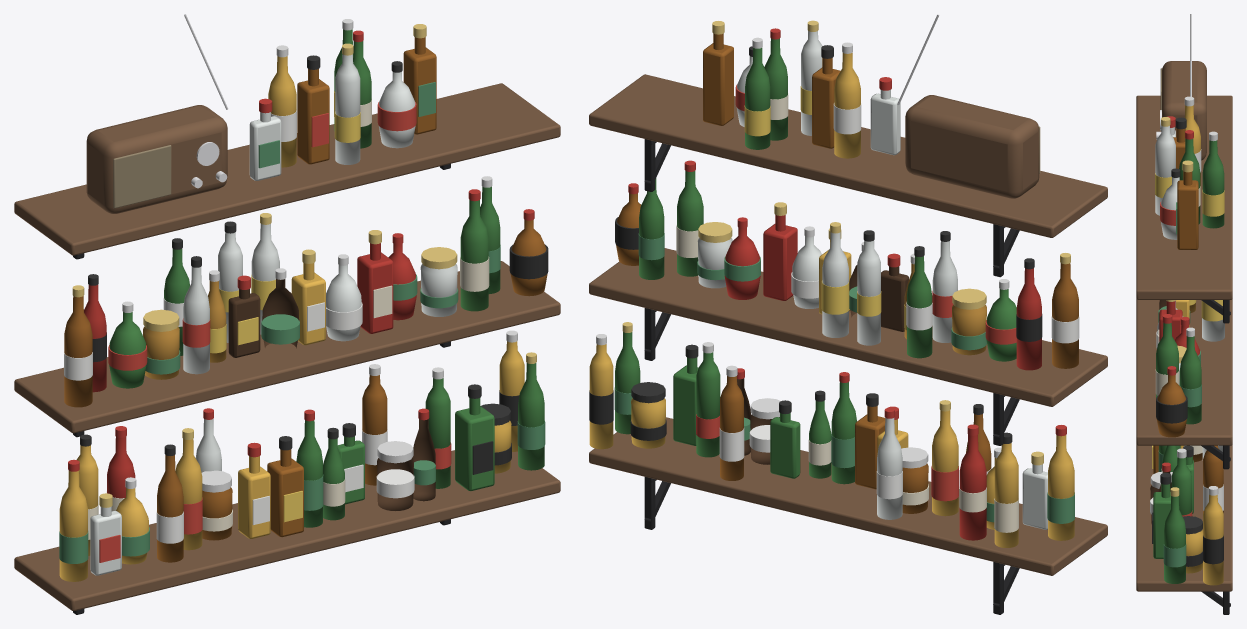
The model's file is bottle_shelf.glb.
3 views of the same model, side by side, from view 1: azimuth 30°, elevation 25°; view 2: azimuth 150°, elevation 25°; view 3: azimuth 270°, elevation 25° (orthographic). The views are drawn at different scales.
Visible parts, largest first — view 1: walnut_flat, bt_green, bt_clear, bt_amber, bt_gold, lb_green, lb_white, bt_red, bt_dark, lb_red, radio_grille.001, lb_cream (+8 smaller); view 2: walnut_flat, bt_green, bt_clear, bt_amber, bt_gold, bt_red, iron_black, lb_white, lb_green, lb_cream, bt_dark, lb_red (+7 smaller); view 3: walnut_flat, bt_green, bt_amber, bt_gold, bt_clear, lb_black, lb_yellow, lb_green, iron_black, bt_red, cap_black, cap_silver (+7 smaller).
Boxes of the visible parts, box(x1,y1,x2,y2) form: walnut_flat: box(14, 83, 560, 610); bt_green: box(109, 29, 544, 527); bt_clear: box(90, 54, 457, 575); bt_amber: box(64, 37, 547, 562); bt_gold: box(59, 56, 524, 581); lb_green: box(59, 82, 545, 563); lb_white: box(64, 109, 414, 543); bt_red: box(84, 243, 416, 498); bt_dark: box(228, 279, 435, 510); lb_red: box(99, 102, 451, 562); radio_grille.001: box(113, 145, 171, 208); lb_cream: box(88, 99, 489, 539); walnut_flat: box(589, 74, 1107, 575); bt_green: box(615, 38, 1016, 484); bt_clear: box(697, 31, 1047, 529); bt_amber: box(616, 33, 1078, 513); bt_gold: box(589, 53, 1074, 547); bt_red: box(724, 215, 1041, 540); iron_black: box(644, 139, 1019, 614); lb_white: box(719, 103, 1079, 499); lb_green: box(614, 233, 1074, 523); lb_cream: box(676, 93, 1018, 532); bt_dark: box(737, 265, 908, 464); lb_red: box(696, 84, 1016, 501); walnut_flat: box(1136, 61, 1232, 591); bt_green: box(1153, 138, 1224, 583); bt_amber: box(1153, 128, 1223, 513); bt_gold: box(1176, 105, 1223, 585); bt_clear: box(1155, 126, 1224, 460); lb_black: box(1152, 395, 1223, 566); lb_yellow: box(1152, 173, 1224, 468); lb_green: box(1158, 202, 1201, 567); iron_black: box(1201, 300, 1230, 614); bt_red: box(1159, 301, 1199, 355); cap_black: box(1160, 117, 1202, 534); cap_silver: box(1150, 96, 1218, 495).
Size of the model in its own units: 1.47 by 1.67 by 0.3.
